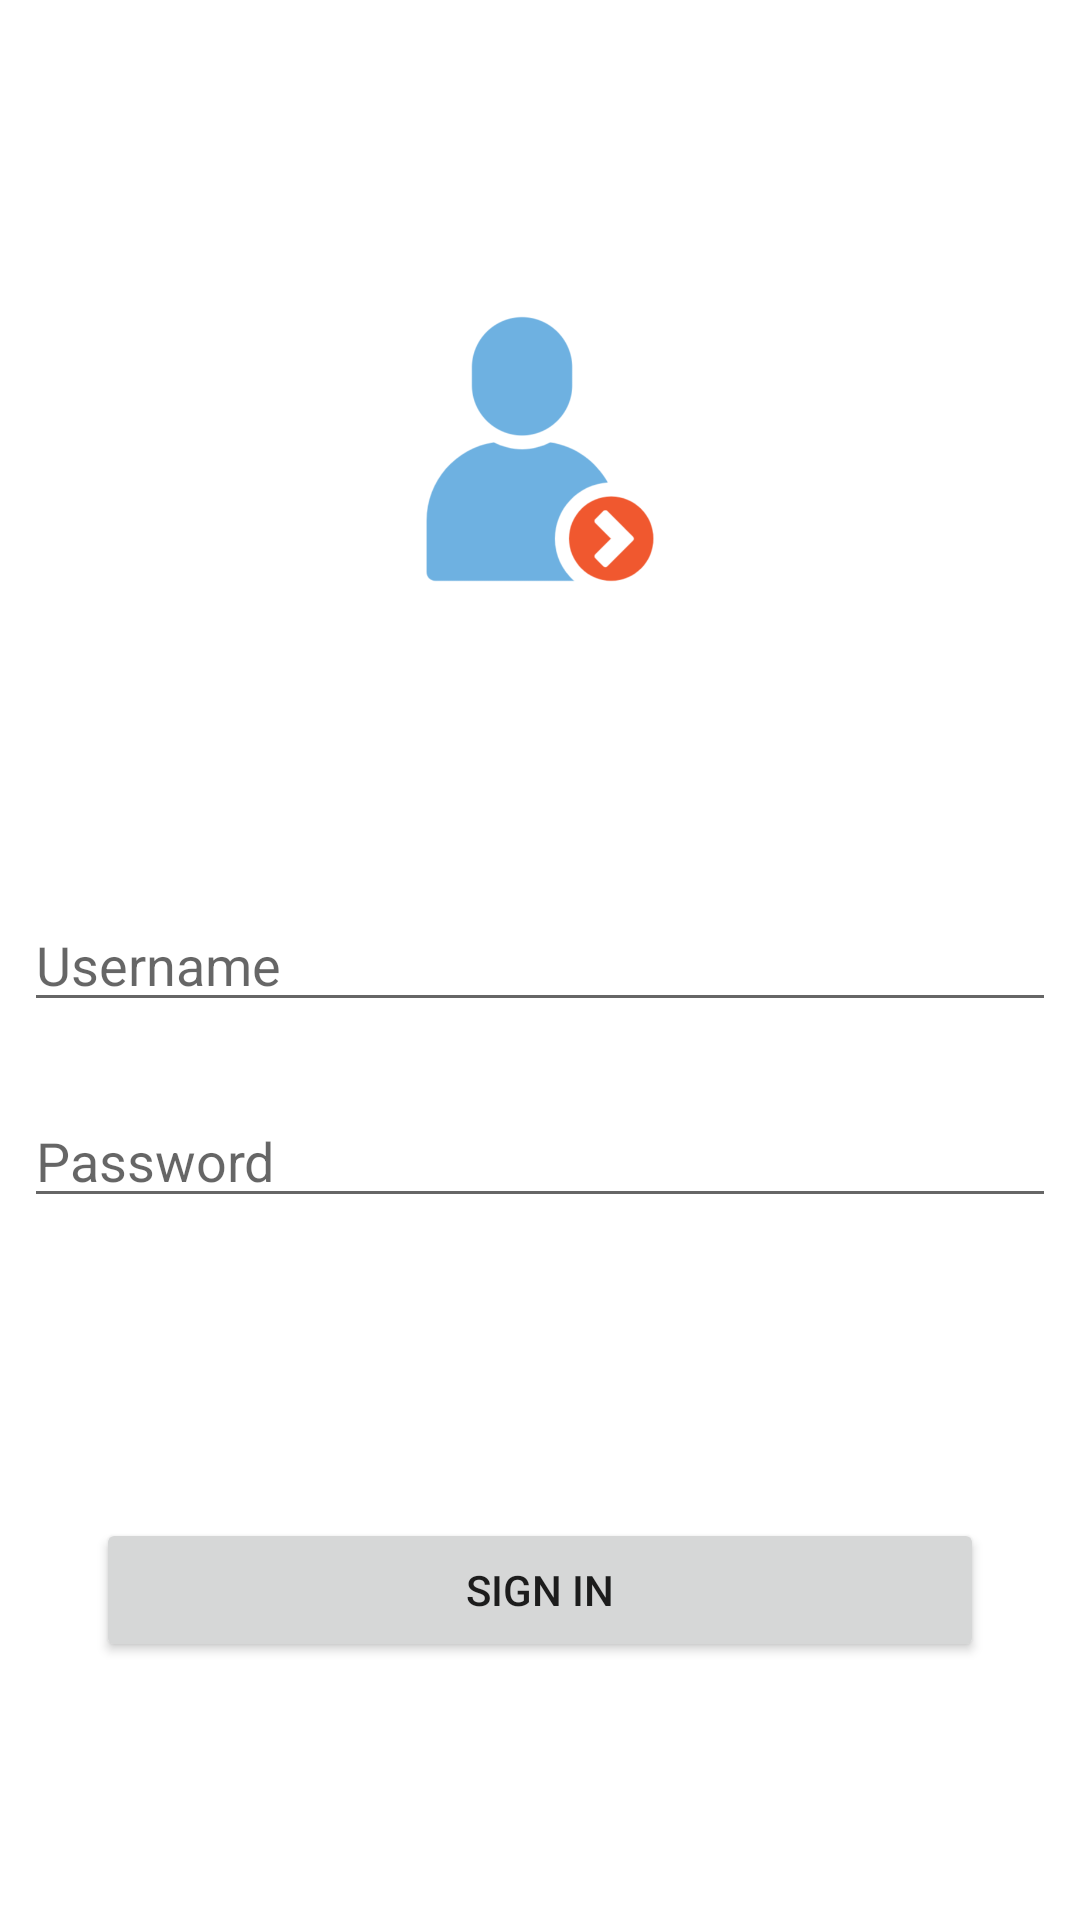

Icons on this 1080 × 1920 Android screen, each with the point to tap as (x,y):
login: (540,449)
